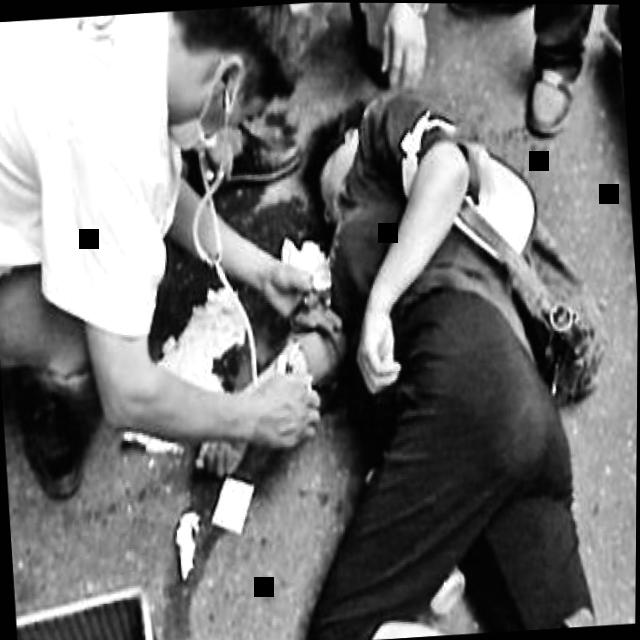Fall-Detected: (247, 25, 616, 640)
